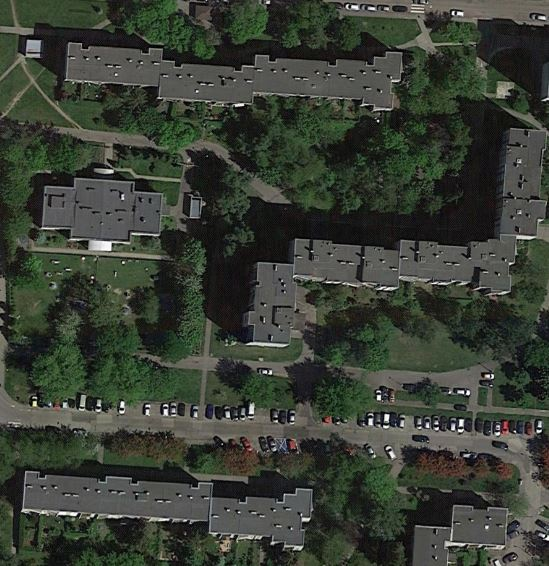block of flats: (236, 122, 549, 351), (54, 35, 409, 118), (18, 465, 319, 557), (39, 158, 170, 254), (411, 500, 513, 566)
